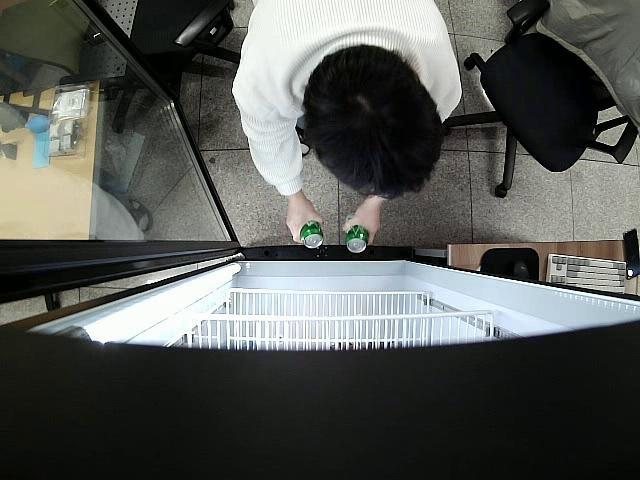12_chilsungCider: (300, 221, 323, 248), (346, 225, 368, 253)
